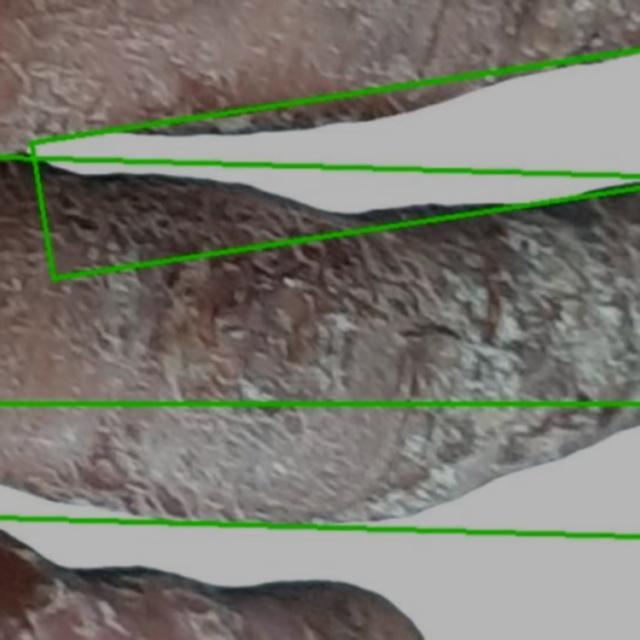Eczema: (0, 156, 639, 535), (0, 404, 639, 639), (31, 46, 639, 278)
